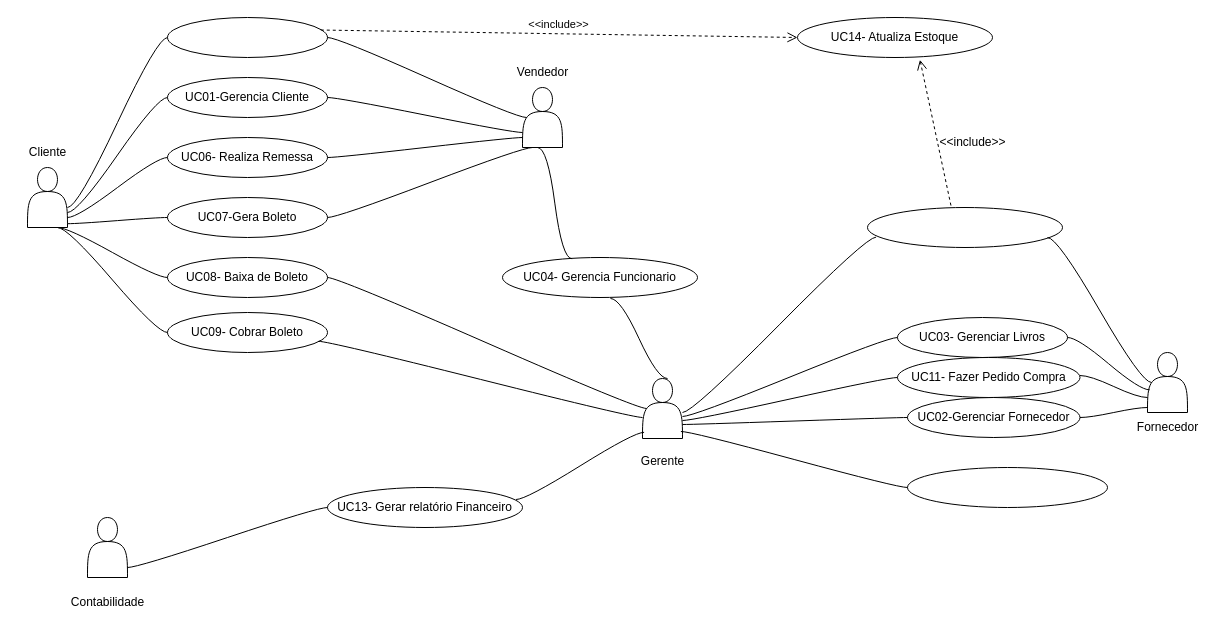
Some shapes in this 1224 by 635 pixel diagram are drawn without their labels. Here are the shapes that lost their labels. From the top down, the centre of each, then its label:
At point (247, 37): "UC05- Efetua Venda".
At point (964, 227): "UC12- Receber Pedido Compra".
At point (1007, 487): "UC10- Gerar relatório de Estoque".
